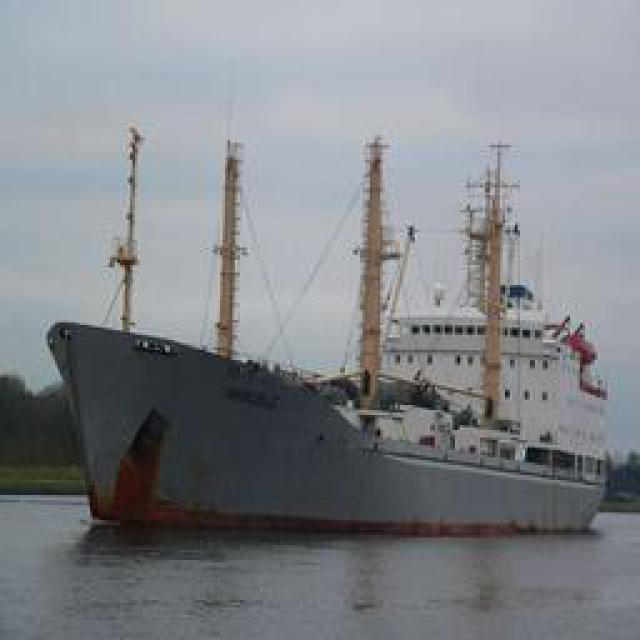Ship: (46, 155, 614, 528)
